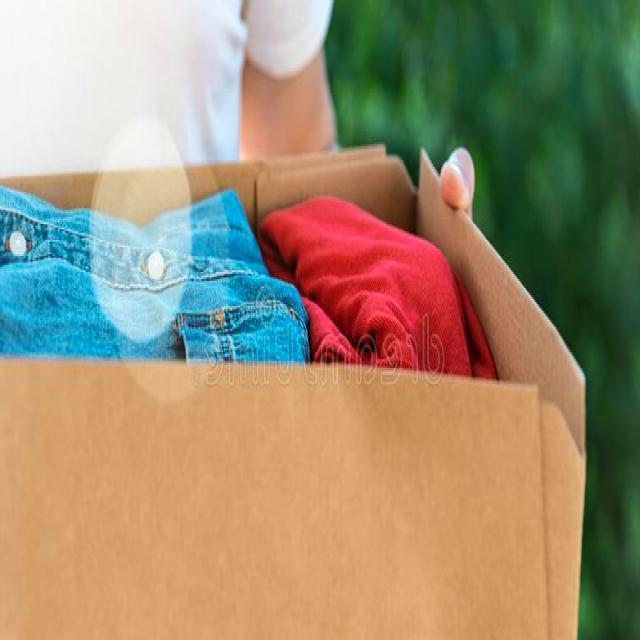clothes: (0, 214, 417, 366)
